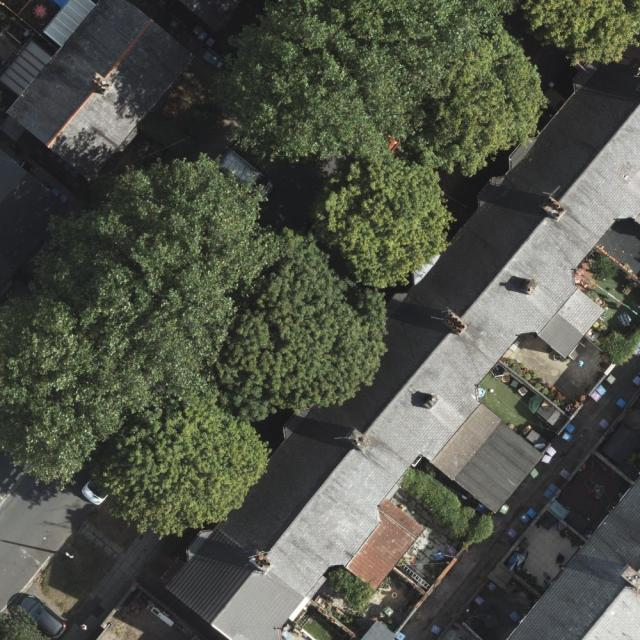roof: (166, 8, 640, 640), (0, 0, 200, 186), (508, 468, 640, 640)
